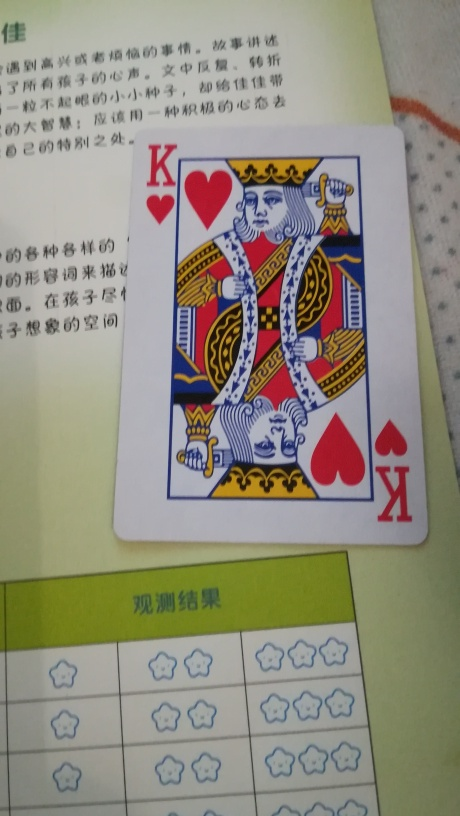hx k: (119, 128, 423, 548)
